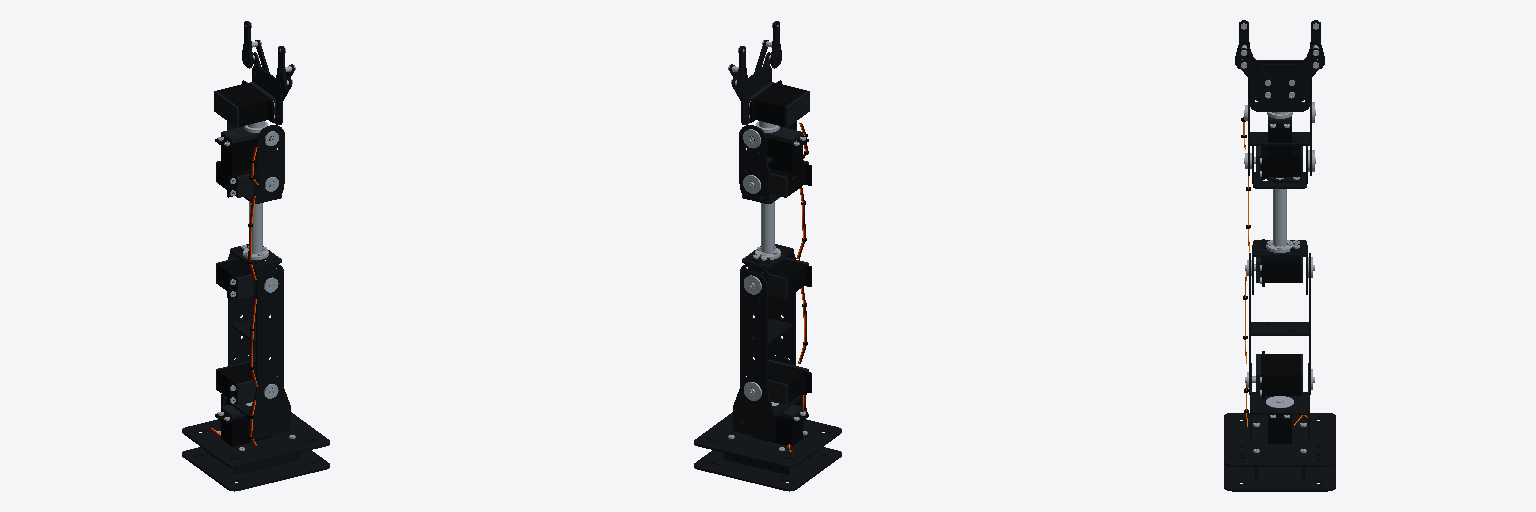
robot.urdf — elexhub_provisional:
<robot name="elexhub_provisional">
  <link name="base_link">
    <visual name="base__anodized">
      <geometry>
        <mesh filename="meshes/base__anodized.obj" />
      </geometry>
      <material name="anodized">
        <color rgba="0.1 0.115 0.13 1" />
      </material>
    </visual>
    <visual name="base__steel">
      <geometry>
        <mesh filename="meshes/base__steel.obj" />
      </geometry>
      <material name="steel">
        <color rgba="0.63 0.67 0.71 1" />
      </material>
    </visual>
    <visual name="base__servo">
      <geometry>
        <mesh filename="meshes/base__servo.obj" />
      </geometry>
      <material name="servo">
        <color rgba="0.065 0.072 0.08 1" />
      </material>
    </visual>
    <visual name="base__cap">
      <geometry>
        <mesh filename="meshes/base__cap.obj" />
      </geometry>
      <material name="cap">
        <color rgba="0.13 0.145 0.16 1" />
      </material>
    </visual>
    <visual name="base__brown">
      <geometry>
        <mesh filename="meshes/base__brown.obj" />
      </geometry>
      <material name="brown">
        <color rgba="0.21 0.12 0.08 1" />
      </material>
    </visual>
    <visual name="base__red">
      <geometry>
        <mesh filename="meshes/base__red.obj" />
      </geometry>
      <material name="red">
        <color rgba="0.65 0.055 0.035 1" />
      </material>
    </visual>
    <visual name="base__orange">
      <geometry>
        <mesh filename="meshes/base__orange.obj" />
      </geometry>
      <material name="orange">
        <color rgba="0.96 0.49 0.055 1" />
      </material>
    </visual>
  </link>
  <link name="turret">
    <visual name="turret__anodized">
      <geometry>
        <mesh filename="meshes/turret__anodized.obj" />
      </geometry>
      <material name="anodized">
        <color rgba="0.1 0.115 0.13 1" />
      </material>
    </visual>
    <visual name="turret__steel">
      <geometry>
        <mesh filename="meshes/turret__steel.obj" />
      </geometry>
      <material name="steel">
        <color rgba="0.63 0.67 0.71 1" />
      </material>
    </visual>
    <visual name="turret__servo">
      <geometry>
        <mesh filename="meshes/turret__servo.obj" />
      </geometry>
      <material name="servo">
        <color rgba="0.065 0.072 0.08 1" />
      </material>
    </visual>
    <visual name="turret__cap">
      <geometry>
        <mesh filename="meshes/turret__cap.obj" />
      </geometry>
      <material name="cap">
        <color rgba="0.13 0.145 0.16 1" />
      </material>
    </visual>
    <visual name="turret__brown">
      <geometry>
        <mesh filename="meshes/turret__brown.obj" />
      </geometry>
      <material name="brown">
        <color rgba="0.21 0.12 0.08 1" />
      </material>
    </visual>
    <visual name="turret__red">
      <geometry>
        <mesh filename="meshes/turret__red.obj" />
      </geometry>
      <material name="red">
        <color rgba="0.65 0.055 0.035 1" />
      </material>
    </visual>
    <visual name="turret__orange">
      <geometry>
        <mesh filename="meshes/turret__orange.obj" />
      </geometry>
      <material name="orange">
        <color rgba="0.96 0.49 0.055 1" />
      </material>
    </visual>
    <visual name="turret__rubber">
      <geometry>
        <mesh filename="meshes/turret__rubber.obj" />
      </geometry>
      <material name="rubber">
        <color rgba="0.035 0.04 0.045 1" />
      </material>
    </visual>
    <collision>
      <origin xyz="0 0 0.0275" />
      <geometry>
        <box size="0.045 0.04 0.055" />
      </geometry>
    </collision>
    <inertial>
      <origin xyz="0 0 0.0275" />
      <mass value="0.12" />
      <inertia ixx="4.625e-05" iyy="5.05e-05" izz="3.625e-05" ixy="0" ixz="0" iyz="0" />
    </inertial>
  </link>
  <joint name="base_yaw" type="revolute">
    <parent link="base_link" />
    <child link="turret" />
    <origin xyz="0 0 0.025" />
    <axis xyz="0 0 1" />
    <limit lower="-1.3962634015954636" upper="1.3962634015954636" effort="1.5" velocity="0.5235987755982988" />
  </joint>
  <link name="upper_arm">
    <visual name="upper_arm__anodized">
      <geometry>
        <mesh filename="meshes/upper_arm__anodized.obj" />
      </geometry>
      <material name="anodized">
        <color rgba="0.1 0.115 0.13 1" />
      </material>
    </visual>
    <visual name="upper_arm__steel">
      <geometry>
        <mesh filename="meshes/upper_arm__steel.obj" />
      </geometry>
      <material name="steel">
        <color rgba="0.63 0.67 0.71 1" />
      </material>
    </visual>
    <visual name="upper_arm__brown">
      <geometry>
        <mesh filename="meshes/upper_arm__brown.obj" />
      </geometry>
      <material name="brown">
        <color rgba="0.21 0.12 0.08 1" />
      </material>
    </visual>
    <visual name="upper_arm__red">
      <geometry>
        <mesh filename="meshes/upper_arm__red.obj" />
      </geometry>
      <material name="red">
        <color rgba="0.65 0.055 0.035 1" />
      </material>
    </visual>
    <visual name="upper_arm__orange">
      <geometry>
        <mesh filename="meshes/upper_arm__orange.obj" />
      </geometry>
      <material name="orange">
        <color rgba="0.96 0.49 0.055 1" />
      </material>
    </visual>
    <visual name="upper_arm__rubber">
      <geometry>
        <mesh filename="meshes/upper_arm__rubber.obj" />
      </geometry>
      <material name="rubber">
        <color rgba="0.035 0.04 0.045 1" />
      </material>
    </visual>
    <visual name="upper_arm__servo">
      <geometry>
        <mesh filename="meshes/upper_arm__servo.obj" />
      </geometry>
      <material name="servo">
        <color rgba="0.065 0.072 0.08 1" />
      </material>
    </visual>
    <visual name="upper_arm__cap">
      <geometry>
        <mesh filename="meshes/upper_arm__cap.obj" />
      </geometry>
      <material name="cap">
        <color rgba="0.13 0.145 0.16 1" />
      </material>
    </visual>
    <collision>
      <origin xyz="0 0 0.0525" />
      <geometry>
        <box size="0.038 0.028 0.105" />
      </geometry>
    </collision>
    <inertial>
      <origin xyz="0 0 0.0525" />
      <mass value="0.16" />
      <inertia ixx="0.00015745333333333332" iyy="0.00016625333333333332" izz="2.9706666666666668e-05" ixy="0" ixz="0" iyz="0" />
    </inertial>
  </link>
  <joint name="shoulder" type="revolute">
    <parent link="turret" />
    <child link="upper_arm" />
    <origin xyz="0 0 0.055" />
    <axis xyz="0 1 0" />
    <limit lower="-1.3962634015954636" upper="1.3962634015954636" effort="1.5" velocity="0.5235987755982988" />
  </joint>
  <link name="forearm">
    <visual name="forearm__anodized">
      <geometry>
        <mesh filename="meshes/forearm__anodized.obj" />
      </geometry>
      <material name="anodized">
        <color rgba="0.1 0.115 0.13 1" />
      </material>
    </visual>
    <visual name="forearm__steel">
      <geometry>
        <mesh filename="meshes/forearm__steel.obj" />
      </geometry>
      <material name="steel">
        <color rgba="0.63 0.67 0.71 1" />
      </material>
    </visual>
    <visual name="forearm__servo">
      <geometry>
        <mesh filename="meshes/forearm__servo.obj" />
      </geometry>
      <material name="servo">
        <color rgba="0.065 0.072 0.08 1" />
      </material>
    </visual>
    <visual name="forearm__cap">
      <geometry>
        <mesh filename="meshes/forearm__cap.obj" />
      </geometry>
      <material name="cap">
        <color rgba="0.13 0.145 0.16 1" />
      </material>
    </visual>
    <visual name="forearm__brown">
      <geometry>
        <mesh filename="meshes/forearm__brown.obj" />
      </geometry>
      <material name="brown">
        <color rgba="0.21 0.12 0.08 1" />
      </material>
    </visual>
    <visual name="forearm__red">
      <geometry>
        <mesh filename="meshes/forearm__red.obj" />
      </geometry>
      <material name="red">
        <color rgba="0.65 0.055 0.035 1" />
      </material>
    </visual>
    <visual name="forearm__orange">
      <geometry>
        <mesh filename="meshes/forearm__orange.obj" />
      </geometry>
      <material name="orange">
        <color rgba="0.96 0.49 0.055 1" />
      </material>
    </visual>
    <visual name="forearm__rubber">
      <geometry>
        <mesh filename="meshes/forearm__rubber.obj" />
      </geometry>
      <material name="rubber">
        <color rgba="0.035 0.04 0.045 1" />
      </material>
    </visual>
    <collision>
      <origin xyz="0 0 0.05" />
      <geometry>
        <box size="0.032 0.028 0.1" />
      </geometry>
    </collision>
    <inertial>
      <origin xyz="0 0 0.05" />
      <mass value="0.13" />
      <inertia ixx="0.00011682666666666669" iyy="0.0001194266666666667" izz="1.958666666666667e-05" ixy="0" ixz="0" iyz="0" />
    </inertial>
  </link>
  <joint name="elbow" type="revolute">
    <parent link="upper_arm" />
    <child link="forearm" />
    <origin xyz="0 0 0.105" />
    <axis xyz="0 1 0" />
    <limit lower="-1.3962634015954636" upper="1.3962634015954636" effort="1.5" velocity="0.5235987755982988" />
  </joint>
  <link name="wrist">
    <visual name="wrist__anodized">
      <geometry>
        <mesh filename="meshes/wrist__anodized.obj" />
      </geometry>
      <material name="anodized">
        <color rgba="0.1 0.115 0.13 1" />
      </material>
    </visual>
    <visual name="wrist__steel">
      <geometry>
        <mesh filename="meshes/wrist__steel.obj" />
      </geometry>
      <material name="steel">
        <color rgba="0.63 0.67 0.71 1" />
      </material>
    </visual>
    <visual name="wrist__brown">
      <geometry>
        <mesh filename="meshes/wrist__brown.obj" />
      </geometry>
      <material name="brown">
        <color rgba="0.21 0.12 0.08 1" />
      </material>
    </visual>
    <visual name="wrist__red">
      <geometry>
        <mesh filename="meshes/wrist__red.obj" />
      </geometry>
      <material name="red">
        <color rgba="0.65 0.055 0.035 1" />
      </material>
    </visual>
    <visual name="wrist__orange">
      <geometry>
        <mesh filename="meshes/wrist__orange.obj" />
      </geometry>
      <material name="orange">
        <color rgba="0.96 0.49 0.055 1" />
      </material>
    </visual>
    <visual name="wrist__rubber">
      <geometry>
        <mesh filename="meshes/wrist__rubber.obj" />
      </geometry>
      <material name="rubber">
        <color rgba="0.035 0.04 0.045 1" />
      </material>
    </visual>
    <visual name="wrist__servo">
      <geometry>
        <mesh filename="meshes/wrist__servo.obj" />
      </geometry>
      <material name="servo">
        <color rgba="0.065 0.072 0.08 1" />
      </material>
    </visual>
    <visual name="wrist__cap">
      <geometry>
        <mesh filename="meshes/wrist__cap.obj" />
      </geometry>
      <material name="cap">
        <color rgba="0.13 0.145 0.16 1" />
      </material>
    </visual>
    <collision>
      <origin xyz="0 0 0.0225" />
      <geometry>
        <box size="0.038 0.035 0.045" />
      </geometry>
    </collision>
    <inertial>
      <origin xyz="0 0 0.0225" />
      <mass value="0.085" />
      <inertia ixx="2.302083333333334e-05" iyy="2.4572083333333335e-05" izz="1.890541666666667e-05" ixy="0" ixz="0" iyz="0" />
    </inertial>
  </link>
  <joint name="wrist_pitch" type="revolute">
    <parent link="forearm" />
    <child link="wrist" />
    <origin xyz="0 0 0.1" />
    <axis xyz="0 1 0" />
    <limit lower="-1.2217304763960306" upper="1.5707963267948966" effort="1.5" velocity="0.5235987755982988" />
  </joint>
  <link name="tool">
    <visual name="tool__anodized">
      <geometry>
        <mesh filename="meshes/tool__anodized.obj" />
      </geometry>
      <material name="anodized">
        <color rgba="0.1 0.115 0.13 1" />
      </material>
    </visual>
    <visual name="tool__steel">
      <geometry>
        <mesh filename="meshes/tool__steel.obj" />
      </geometry>
      <material name="steel">
        <color rgba="0.63 0.67 0.71 1" />
      </material>
    </visual>
    <visual name="tool__servo">
      <geometry>
        <mesh filename="meshes/tool__servo.obj" />
      </geometry>
      <material name="servo">
        <color rgba="0.065 0.072 0.08 1" />
      </material>
    </visual>
    <visual name="tool__cap">
      <geometry>
        <mesh filename="meshes/tool__cap.obj" />
      </geometry>
      <material name="cap">
        <color rgba="0.13 0.145 0.16 1" />
      </material>
    </visual>
    <collision>
      <origin xyz="0 0 0.0125" />
      <geometry>
        <box size="0.04 0.03 0.025" />
      </geometry>
    </collision>
    <inertial>
      <origin xyz="0 0 0.0125" />
      <mass value="0.06" />
      <inertia ixx="7.625000000000001e-06" iyy="1.1125000000000003e-05" izz="1.25e-05" ixy="0" ixz="0" iyz="0" />
    </inertial>
  </link>
  <joint name="wrist_roll" type="revolute">
    <parent link="wrist" />
    <child link="tool" />
    <origin xyz="0 0 0.045" />
    <axis xyz="0 0 1" />
    <limit lower="-1.3962634015954636" upper="1.3962634015954636" effort="1.5" velocity="0.5235987755982988" />
  </joint>
  <link name="finger_left">
    <visual name="finger_left__anodized">
      <geometry>
        <mesh filename="meshes/finger_left__anodized.obj" />
      </geometry>
      <material name="anodized">
        <color rgba="0.1 0.115 0.13 1" />
      </material>
    </visual>
    <visual name="finger_left__steel">
      <geometry>
        <mesh filename="meshes/finger_left__steel.obj" />
      </geometry>
      <material name="steel">
        <color rgba="0.63 0.67 0.71 1" />
      </material>
    </visual>
    <collision>
      <origin xyz="0 0 0.0325" />
      <geometry>
        <box size="0.018 0.006 0.065" />
      </geometry>
    </collision>
  </link>
  <joint name="finger_left" type="prismatic">
    <parent link="tool" />
    <child link="finger_left" />
    <origin xyz="0 -0.0305 0.025" />
    <axis xyz="0 1 0" />
    <limit lower="0" upper="0.0275" effort="3" velocity=".03" />
  </joint>
  <link name="finger_right">
    <visual name="finger_right__anodized">
      <geometry>
        <mesh filename="meshes/finger_right__anodized.obj" />
      </geometry>
      <material name="anodized">
        <color rgba="0.1 0.115 0.13 1" />
      </material>
    </visual>
    <visual name="finger_right__steel">
      <geometry>
        <mesh filename="meshes/finger_right__steel.obj" />
      </geometry>
      <material name="steel">
        <color rgba="0.63 0.67 0.71 1" />
      </material>
    </visual>
    <collision>
      <origin xyz="0 0 0.0325" />
      <geometry>
        <box size="0.018 0.006 0.065" />
      </geometry>
    </collision>
  </link>
  <joint name="finger_right" type="prismatic">
    <parent link="tool" />
    <child link="finger_right" />
    <origin xyz="0 0.0305 0.025" />
    <axis xyz="0 -1 0" />
    <limit lower="0" upper="0.0275" effort="3" velocity=".03" />
    <mimic joint="finger_left" multiplier="1" offset="0" />
  </joint>
  <link name="tool_center" />
  <joint name="tcp_fixed" type="fixed">
    <parent link="tool" />
    <child link="tool_center" />
    <origin xyz="0 0 0.07375" />
  </joint>
</robot>

--- Render facts (derived) ---
The picture shows the robot from 3 angles, left to right: view 1: azimuth 30°, elevation 25°; view 2: azimuth 150°, elevation 25°; view 3: azimuth 270°, elevation 25°; orthographic projection.
Robot: elexhub_provisional — 9 links, 8 joints (5 revolute, 2 prismatic, 1 fixed); root link base_link; default pose: all joints at 0.
Links seen in each view (by area): view 1: base_link, upper_arm, wrist, turret, tool, forearm, finger_right, finger_left; view 2: base_link, upper_arm, wrist, turret, forearm, tool, finger_left, finger_right; view 3: base_link, forearm, turret, upper_arm, wrist, tool, finger_left, finger_right.
Boxes of the visible links, x1,y1,x2,y2 form: base_link: [182, 405, 329, 491]; upper_arm: [216, 258, 283, 403]; wrist: [215, 121, 284, 196]; turret: [216, 356, 290, 446]; tool: [214, 65, 282, 127]; forearm: [216, 161, 283, 298]; finger_right: [242, 21, 269, 72]; finger_left: [276, 46, 295, 100]; base_link: [694, 405, 841, 491]; upper_arm: [740, 257, 811, 403]; wrist: [739, 121, 808, 196]; turret: [733, 356, 811, 440]; forearm: [740, 160, 811, 303]; tool: [741, 65, 809, 127]; finger_left: [754, 21, 781, 72]; finger_right: [728, 46, 747, 100]; base_link: [1224, 399, 1335, 491]; forearm: [1246, 134, 1309, 294]; turret: [1244, 351, 1313, 438]; upper_arm: [1243, 239, 1314, 394]; wrist: [1241, 98, 1315, 175]; tool: [1248, 60, 1311, 113]; finger_left: [1235, 20, 1272, 99]; finger_right: [1287, 20, 1324, 99].
Bounding box of the posed robot: 0.105 × 0.0945 × 0.42 m (x, y, z).
47 mesh visuals loaded from 47 distinct referenced files (47 OBJ).
